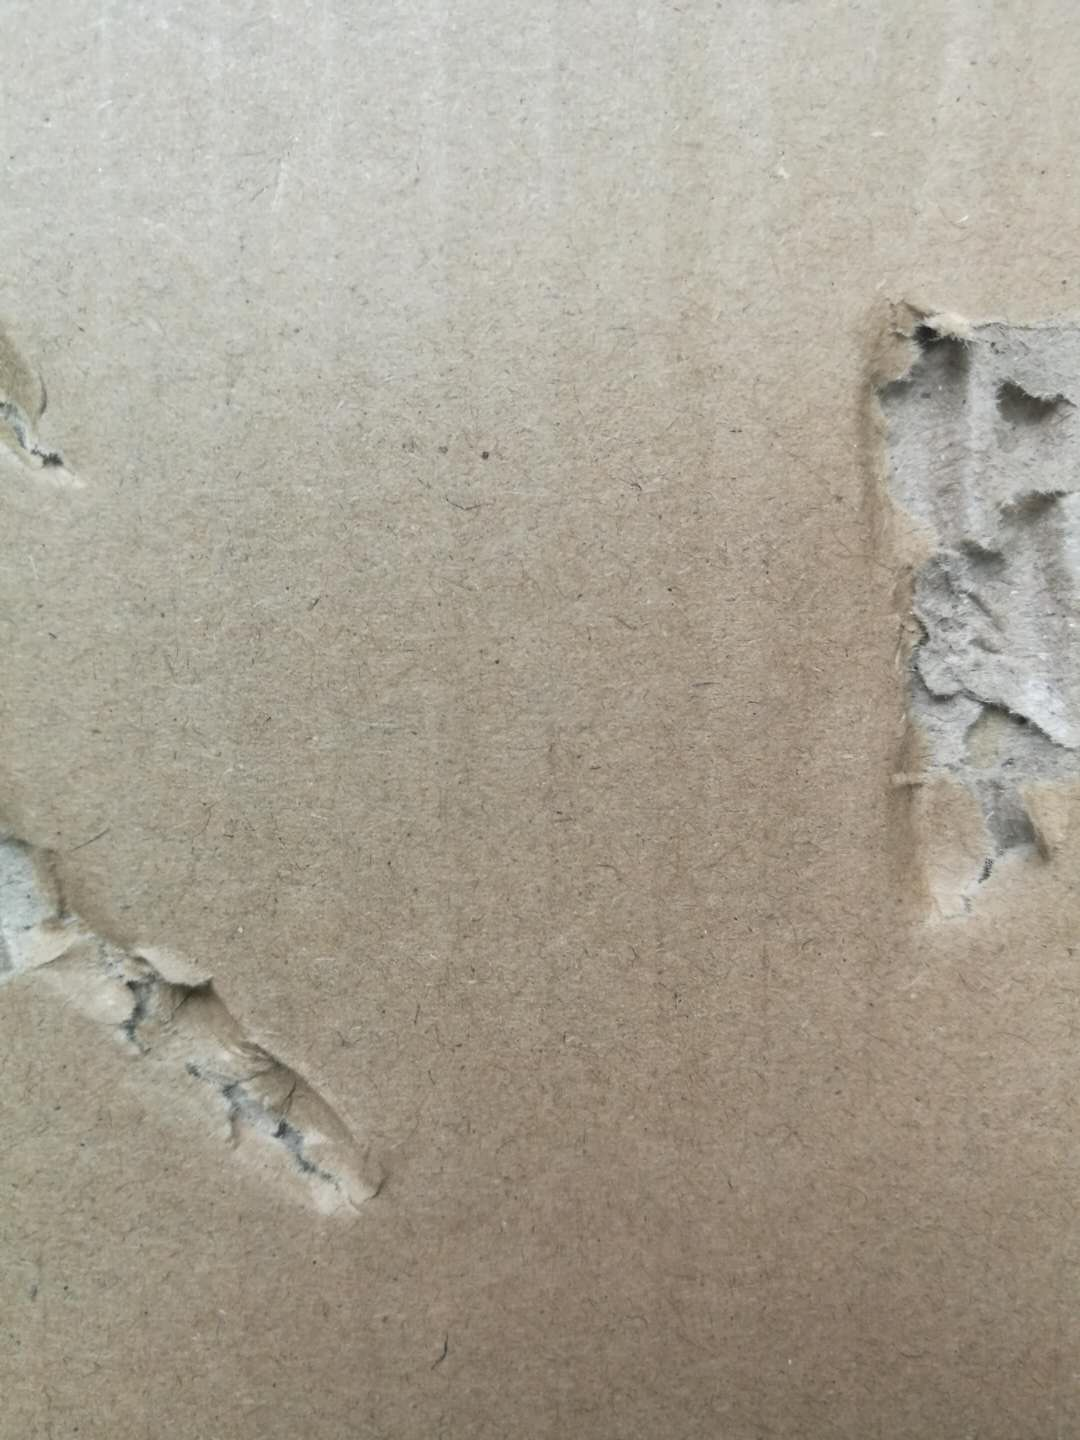defect: (1, 779, 411, 1250), (809, 259, 1080, 962), (1, 304, 102, 516)
